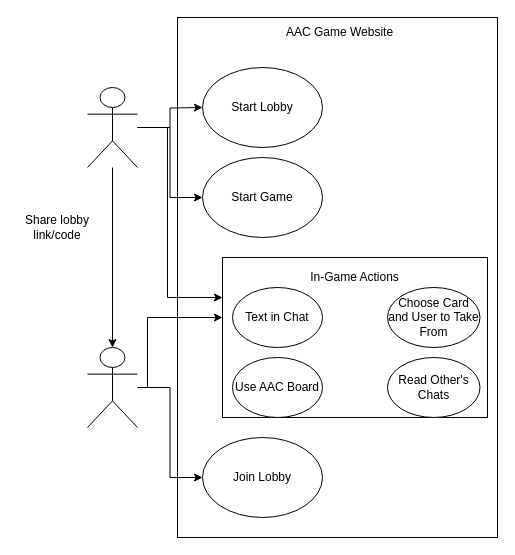
This 515x555 diagram has some shape labels left out. The box of each missing label's shape, as (x1, y1, x2, y2) in pixels:
Lobby creator: (86, 86, 138, 168)
User: (86, 346, 138, 428)
